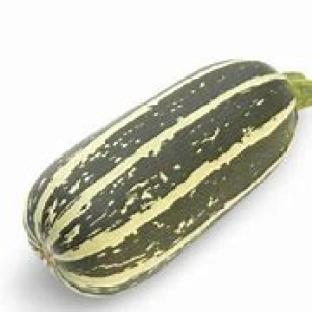Zucchini: (25, 61, 311, 294)
